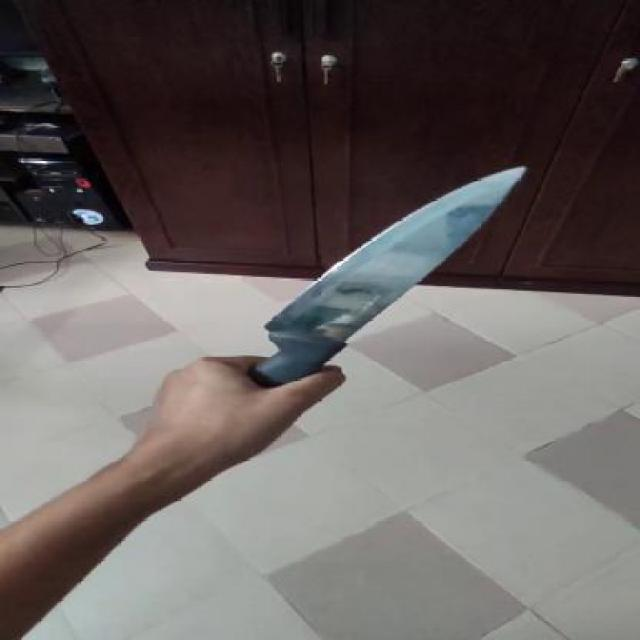-: (257, 159, 531, 393)
